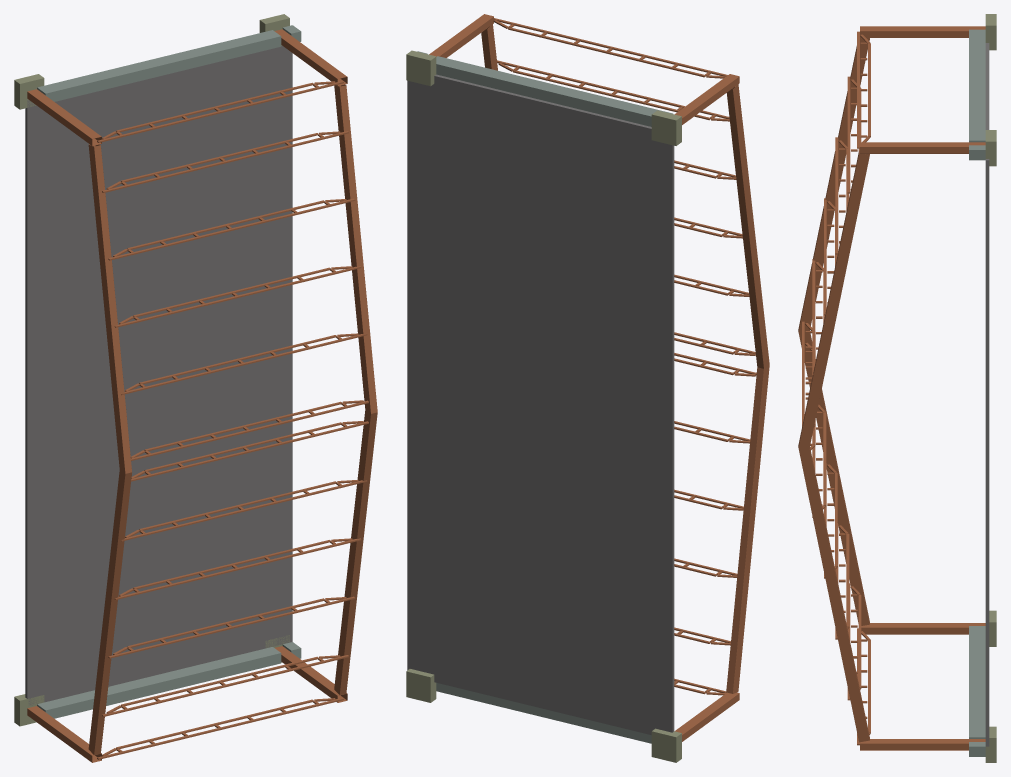
The model's file is modelo_granja.glb.
3 views of the same model, side by side, from view 1: azimuth 30°, elevation 25°; view 2: azimuth 150°, elevation 25°; view 3: azimuth 270°, elevation 25° (orthographic). The views are drawn at different scales.
Visible parts, largest first — view 1: Floor_6"_Concrete_669532, Basic_Wall_Generic_-_8"_650992, HSS-Hollow_Structural_Section-Column_HSS_140mm_X_200mm_x_88m (×4), Basic_Wall_Generic_-_8"_650274, HSS-Hollow_Structural_Section_HSS_140mm_x_200mm_x_88_675483, HSS-Hollow_Structural_Section_HSS_140mm_x_200mm_x_88_675362, HSS-Hollow_Structural_Section_HSS_140mm_x_200mm_x_88_675484, HSS-Hollow_Structural_Section_HSS_140mm_x_200mm_x_88_675363, Flat_Bars_FL_1X2_662634, Flat_Bars_FL_1X2_662184, Flat_Bars_FL_1X2_662474, Flat_Bars_FL_1X2_662494 (+22 smaller); view 2: Floor_6"_Concrete_669532, Basic_Wall_Generic_-_8"_650992, HSS-Hollow_Structural_Section_HSS_140mm_x_200mm_x_88_675484, HSS-Hollow_Structural_Section_HSS_140mm_x_200mm_x_88_675483, HSS-Hollow_Structural_Section-Column_HSS_140mm_X_200mm_x_88m (×3), Basic_Wall_Generic_-_8"_650274, Footing-Rectangular_200_x_200_x_200_669489, Footing-Rectangular_200_x_200_x_200_669490, Footing-Rectangular_200_x_200_x_200_668914, Footing-Rectangular_200_x_200_x_200_669134, Flat_Bars_FL_1X2_662674, Flat_Bars_FL_1X2_662654 (+2 smaller); view 3: HSS-Hollow_Structural_Section-Column_HSS_140mm_X_200mm_x_88m (×4), HSS-Hollow_Structural_Section_HSS_140mm_x_200mm_x_88_675362, HSS-Hollow_Structural_Section_HSS_140mm_x_200mm_x_88_675363, Floor_6"_Concrete_669532, HSS-Hollow_Structural_Section_HSS_140mm_x_200mm_x_88_675483, HSS-Hollow_Structural_Section_HSS_140mm_x_200mm_x_88_675484, Basic_Wall_Generic_-_8"_650992, Basic_Wall_Generic_-_8"_650274, Flat_Bars_FL_1X2_662634, Flat_Bars_FL_1X2_662654, Flat_Bars_FL_1X2_662594, Footing-Rectangular_200_x_200_x_200_669489 (+6 smaller).
Boxes of the visible parts, bbox=[...] form: Floor_6"_Concrete_669532: bbox=[25, 45, 292, 705]; Basic_Wall_Generic_-_8"_650992: bbox=[37, 30, 281, 101]; HSS-Hollow_Structural_Section-Column_HSS_140mm_X_200mm_x_88m (×4): bbox=[27, 29, 347, 762]; Basic_Wall_Generic_-_8"_650274: bbox=[37, 647, 281, 718]; HSS-Hollow_Structural_Section_HSS_140mm_x_200mm_x_88_675483: bbox=[88, 144, 131, 473]; HSS-Hollow_Structural_Section_HSS_140mm_x_200mm_x_88_675362: bbox=[334, 84, 377, 413]; HSS-Hollow_Structural_Section_HSS_140mm_x_200mm_x_88_675484: bbox=[88, 470, 131, 755]; HSS-Hollow_Structural_Section_HSS_140mm_x_200mm_x_88_675363: bbox=[334, 410, 377, 695]; Flat_Bars_FL_1X2_662634: bbox=[108, 198, 355, 260]; Flat_Bars_FL_1X2_662184: bbox=[97, 697, 343, 759]; Flat_Bars_FL_1X2_662474: bbox=[102, 655, 348, 716]; Flat_Bars_FL_1X2_662494: bbox=[108, 596, 355, 658]; Floor_6"_Concrete_669532: bbox=[407, 74, 674, 735]; Basic_Wall_Generic_-_8"_650992: bbox=[436, 56, 672, 126]; HSS-Hollow_Structural_Section_HSS_140mm_x_200mm_x_88_675484: bbox=[726, 365, 769, 693]; HSS-Hollow_Structural_Section_HSS_140mm_x_200mm_x_88_675483: bbox=[726, 84, 769, 368]; HSS-Hollow_Structural_Section-Column_HSS_140mm_X_200mm_x_88m (×3): bbox=[429, 14, 739, 741]; Basic_Wall_Generic_-_8"_650274: bbox=[436, 683, 651, 743]; Footing-Rectangular_200_x_200_x_200_669489: bbox=[651, 110, 681, 145]; Footing-Rectangular_200_x_200_x_200_669490: bbox=[406, 50, 436, 86]; Footing-Rectangular_200_x_200_x_200_668914: bbox=[651, 728, 681, 762]; Footing-Rectangular_200_x_200_x_200_669134: bbox=[406, 669, 436, 702]; Flat_Bars_FL_1X2_662674: bbox=[494, 18, 727, 76]; Flat_Bars_FL_1X2_662654: bbox=[497, 60, 729, 118]; HSS-Hollow_Structural_Section-Column_HSS_140mm_X_200mm_x_88m (×4): bbox=[860, 26, 985, 750]; HSS-Hollow_Structural_Section_HSS_140mm_x_200mm_x_88_675362: bbox=[798, 150, 869, 447]; HSS-Hollow_Structural_Section_HSS_140mm_x_200mm_x_88_675363: bbox=[798, 447, 869, 742]; Floor_6"_Concrete_669532: bbox=[985, 43, 989, 746]; HSS-Hollow_Structural_Section_HSS_140mm_x_200mm_x_88_675483: bbox=[798, 38, 869, 331]; HSS-Hollow_Structural_Section_HSS_140mm_x_200mm_x_88_675484: bbox=[798, 332, 869, 625]; Basic_Wall_Generic_-_8"_650992: bbox=[969, 29, 985, 142]; Basic_Wall_Generic_-_8"_650274: bbox=[969, 626, 985, 738]; Flat_Bars_FL_1X2_662634: bbox=[835, 137, 838, 254]; Flat_Bars_FL_1X2_662654: bbox=[847, 76, 850, 193]; Flat_Bars_FL_1X2_662594: bbox=[812, 259, 815, 376]; Footing-Rectangular_200_x_200_x_200_669489: bbox=[985, 14, 996, 50].
Bounding box in the file's own units: 18.22 × 41.01 × 11.84.
